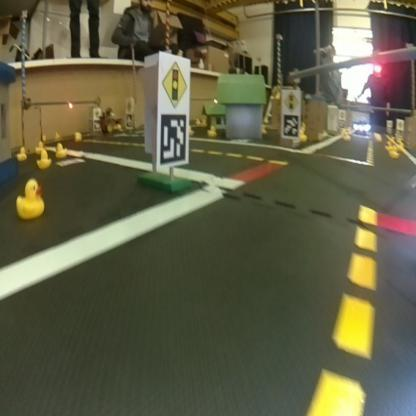duckie: (8, 168, 50, 233), (12, 138, 30, 165), (54, 138, 69, 161), (37, 149, 49, 167)
